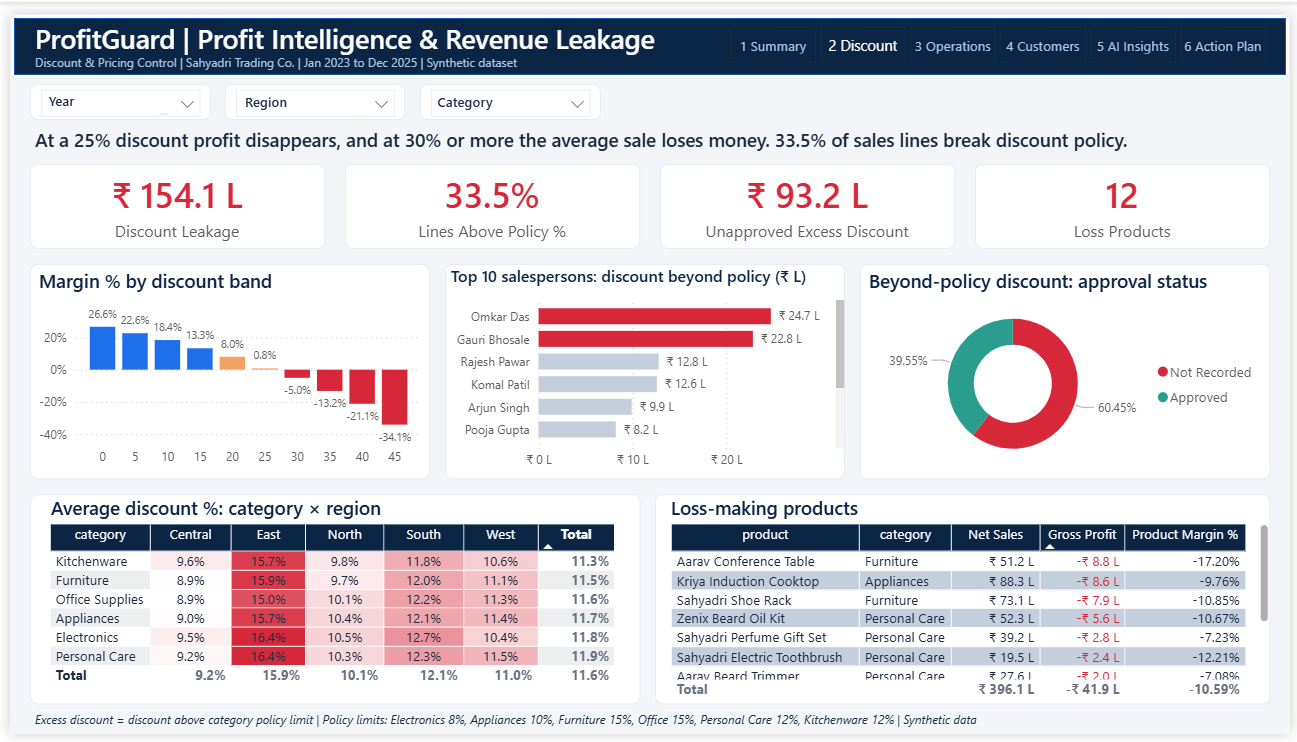

This screenshot's page, from the dashboard's own definition file:
{"tool":"powerbi","page":{"name":"2 Discount","canvas":[1280,720],"ordinal":1},"visuals":[{"type":"shape","box":[0,0,1280,65],"z":0},{"type":"textbox","title":"ProfitGuard | Profit Intelligence & Revenue Leakage","box":[20,6,720,38],"z":1000},{"type":"textbox","title":"Discount & Pricing Control | Sahyadri Trading Co. | Jan 2023 to Dec 2025 | Synthetic dataset","box":[20.5,40,720,20],"z":2000},{"type":"slicer","fields":{"Values":["profitguard dim_location.region"]},"box":[215,70,180,36],"z":3000},{"type":"slicer","title":"Year","fields":{"Values":["profitguard dim_date.year"]},"box":[20.5,70,181,36.2],"z":4000},{"type":"slicer","fields":{"Values":["profitguard dim_product.category"]},"box":[410,70,181,36.2],"z":5000},{"type":"textbox","title":"At a 25% discount profit disappears, and at 30% or more the average sale loses money. 33.5% of sales lines break discount policy.","box":[20,112,1240,30],"z":6000},{"type":"textbox","title":" Excess discount = discount above category policy limit | Policy limits: Electronics 8%, Appliances 10%, Furniture 15%, Office 15%, Personal Care 12%, Kitchenware 12% | Synthetic data","box":[20,697,1240.2,20],"z":7000},{"type":"pageNavigator","box":[720,12,540,36],"z":8000},{"type":"textbox","title":"Year","box":[34.2,78,124.2,23],"z":9000},{"type":"textbox","title":"Region","box":[229.9,78.4,124.7,22.7],"z":10000},{"type":"textbox","title":"Category","box":[422,78.4,124.7,22.6],"z":11000},{"type":"clusteredColumnChart","title":"Margin % by discount band","fields":{"Category":["profitguard vw_line_leakage.discount_band"],"Y":["Table.Product Margin %"]},"box":[20,250,400,215],"z":12000},{"type":"clusteredBarChart","title":"Top 10 salespersons: discount beyond policy (₹ L)","fields":{"Category":["profitguard dim_salesperson.salesperson_name"],"Y":["Table.Discount Leakage"]},"box":[435,250,400,215],"z":13000},{"type":"donutChart","title":"Beyond-policy discount: approval status","fields":{"Category":["profitguard vw_line_leakage.discount_approval"],"Y":["Table.Discount Leakage"]},"box":[850,250,410,215],"z":14000},{"type":"pivotTable","title":"Average discount %: category × region","fields":{"Rows":["profitguard dim_product.category"],"Columns":["profitguard dim_location.region"],"Values":["Table.Avg Discount %"]},"box":[20,480,610,210],"z":15000},{"type":"tableEx","title":"Loss-making products","fields":{"Values":["profitguard dim_product.product_name","profitguard dim_product.category","Table.Net Sales","Table.Gross Profit","Table.Product Margin %"]},"box":[645,480,615,210],"z":16000},{"type":"card","fields":{"Values":["Table.Discount Leakage"]},"box":[20,150,295,85],"z":17000},{"type":"card","fields":{"Values":["Table.Lines Above Policy %"]},"box":[335,150,295,85],"z":18000},{"type":"card","fields":{"Values":["Table.Unapproved Excess Discount"]},"box":[650,150,295,85],"z":19000},{"type":"card","fields":{"Values":["Table.Loss Products"]},"box":[965,150,295,85],"z":20000}]}

Visuals, with their boxes in screenshot pixels (x1, y1, x2, y2), scaled from the page's 1280x720 canvas onto the 1297x742 screenshot:
shape: select_region(0, 0, 1296, 67)
"ProfitGuard | Profit Intelligence & Revenue Leakage" textbox: select_region(20, 6, 750, 45)
"Discount & Pricing Control | Sahyadri Trading Co. | Jan 2023 to Dec 2025 | Synthetic dataset" textbox: select_region(21, 41, 750, 62)
slicer - profitguard dim_location.region: select_region(218, 72, 400, 109)
"Year" slicer: select_region(21, 72, 204, 109)
slicer - profitguard dim_product.category: select_region(415, 72, 599, 109)
"At a 25% discount profit disappears, and at 30% or more the average sale loses money. 33.5% of sales lines break discount policy." textbox: select_region(20, 115, 1277, 146)
" Excess discount = discount above category policy limit | Policy limits: Electronics 8%, Appliances 10%, Furniture 15%, Office 15%, Personal Care 12%, Kitchenware 12% | Synthetic data" textbox: select_region(20, 718, 1277, 739)
pageNavigator: select_region(730, 12, 1277, 49)
"Year" textbox: select_region(35, 80, 161, 104)
"Region" textbox: select_region(233, 81, 359, 104)
"Category" textbox: select_region(428, 81, 554, 104)
"Margin % by discount band" clusteredColumnChart: select_region(20, 258, 426, 479)
"Top 10 salespersons: discount beyond policy (₹ L)" clusteredBarChart: select_region(441, 258, 846, 479)
"Beyond-policy discount: approval status" donutChart: select_region(861, 258, 1277, 479)
"Average discount %: category × region" pivotTable: select_region(20, 495, 638, 711)
"Loss-making products" tableEx: select_region(654, 495, 1277, 711)
card - Table.Discount Leakage: select_region(20, 155, 319, 242)
card - Table.Lines Above Policy %: select_region(339, 155, 638, 242)
card - Table.Unapproved Excess Discount: select_region(659, 155, 958, 242)
card - Table.Loss Products: select_region(978, 155, 1277, 242)
